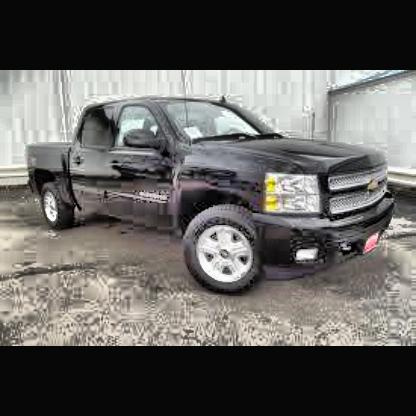Chevrolet Silverado 1500 Hybrid Crew Cab 2012: (32, 97, 399, 298)
